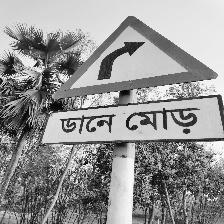Right-turn: (47, 14, 224, 142)
